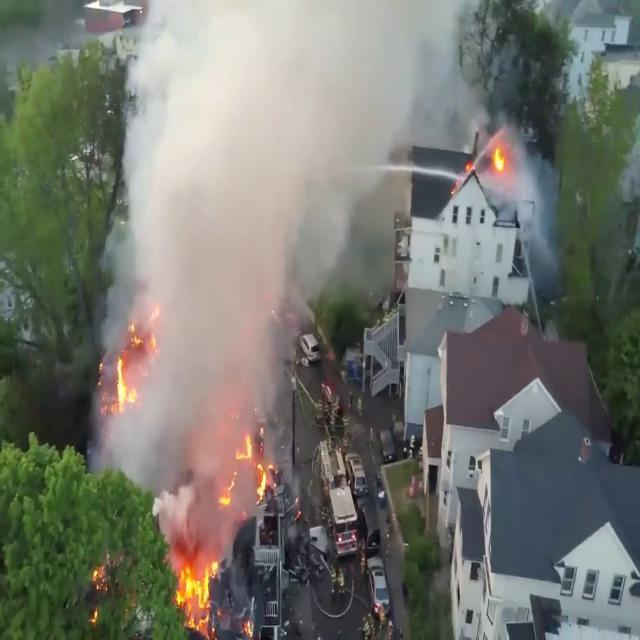Fire: (173, 551, 221, 631), (109, 324, 151, 412), (240, 429, 278, 503), (488, 131, 510, 182)
Smoke: (90, 0, 348, 505), (106, 0, 460, 204), (464, 89, 546, 240)
